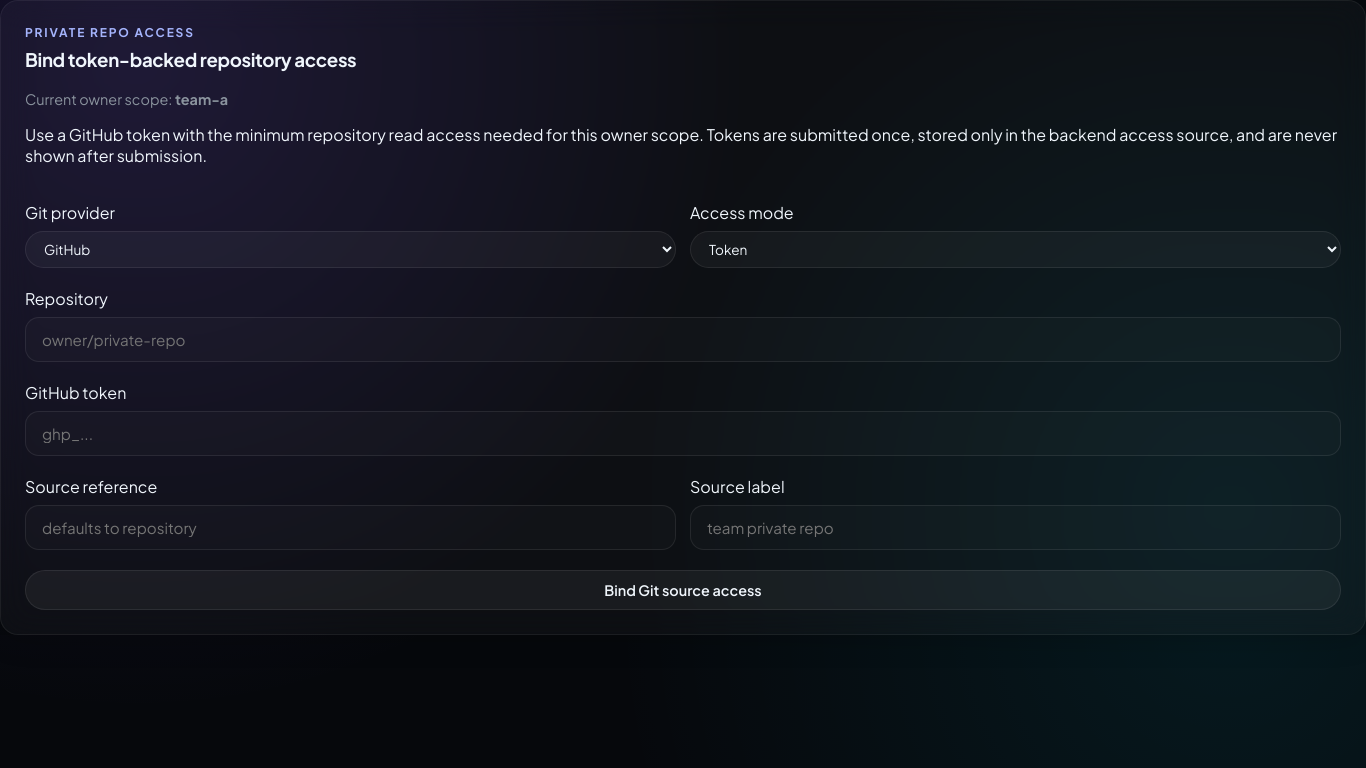
PrivateRepoAccessPanel › shows bounded binding errors and clears submitted token material
The image size is (1366, 768).
Type "org/private-repo" into the field labelled "Repository" at [683, 339], box [25,317,1341,362]
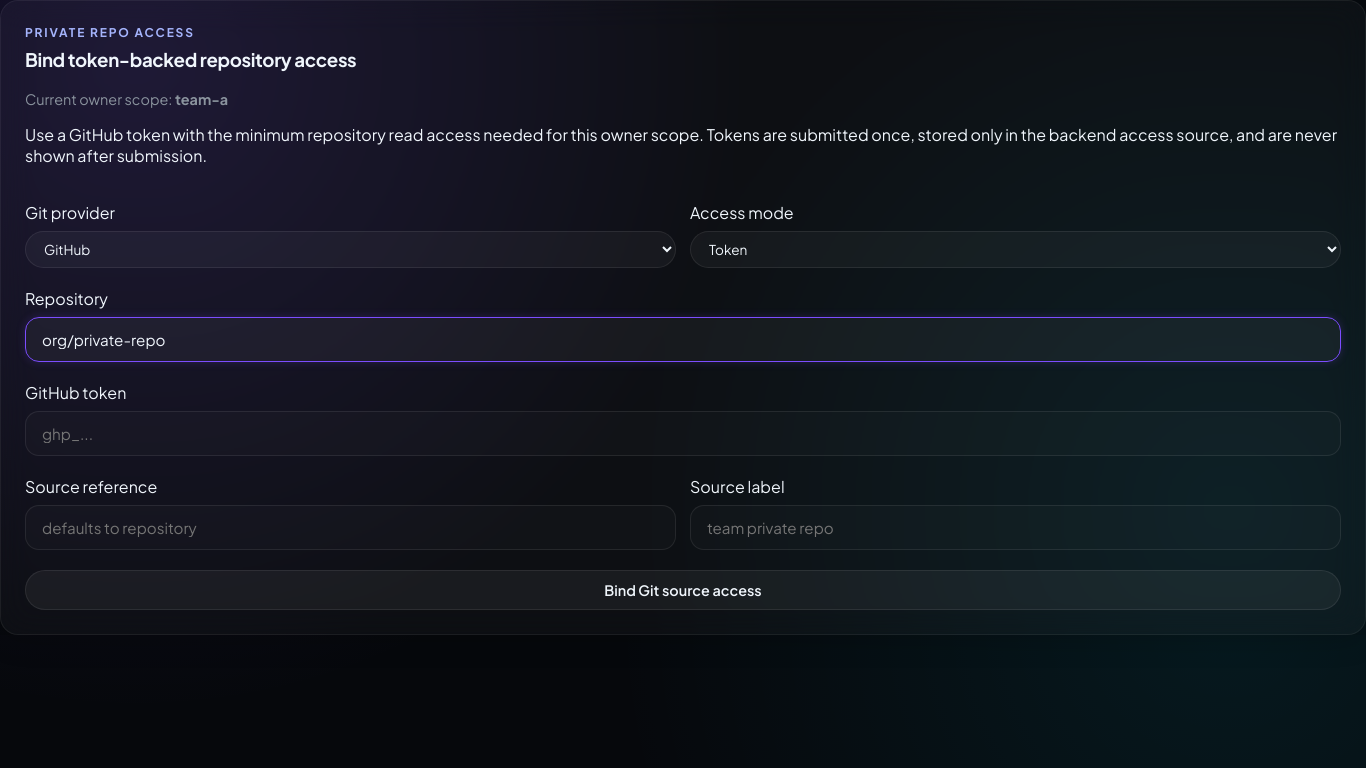
Type "ghp-private-token" into the password field labelled "GitHub token" at [683, 433], box [25,411,1341,456]
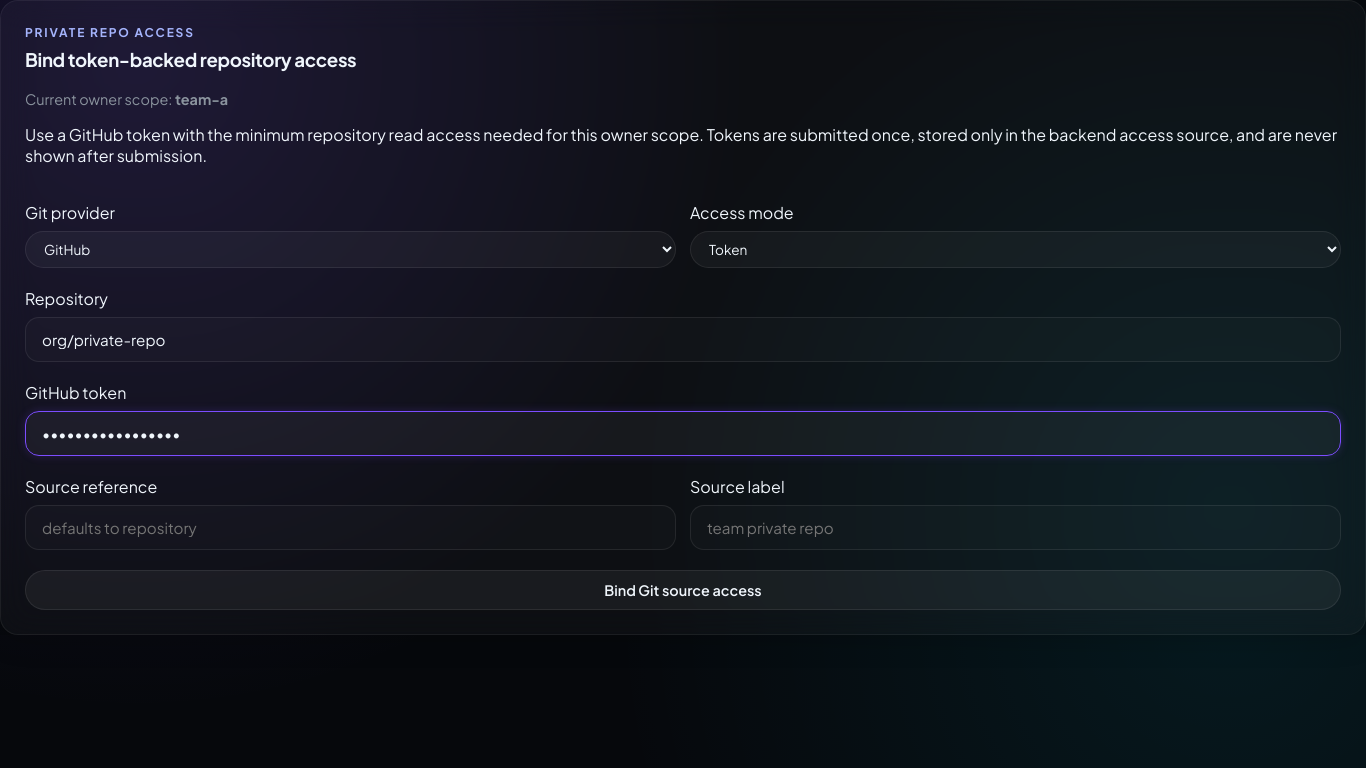
Click the button "Bind Git source access" at [683, 590], box [25,570,1341,610]
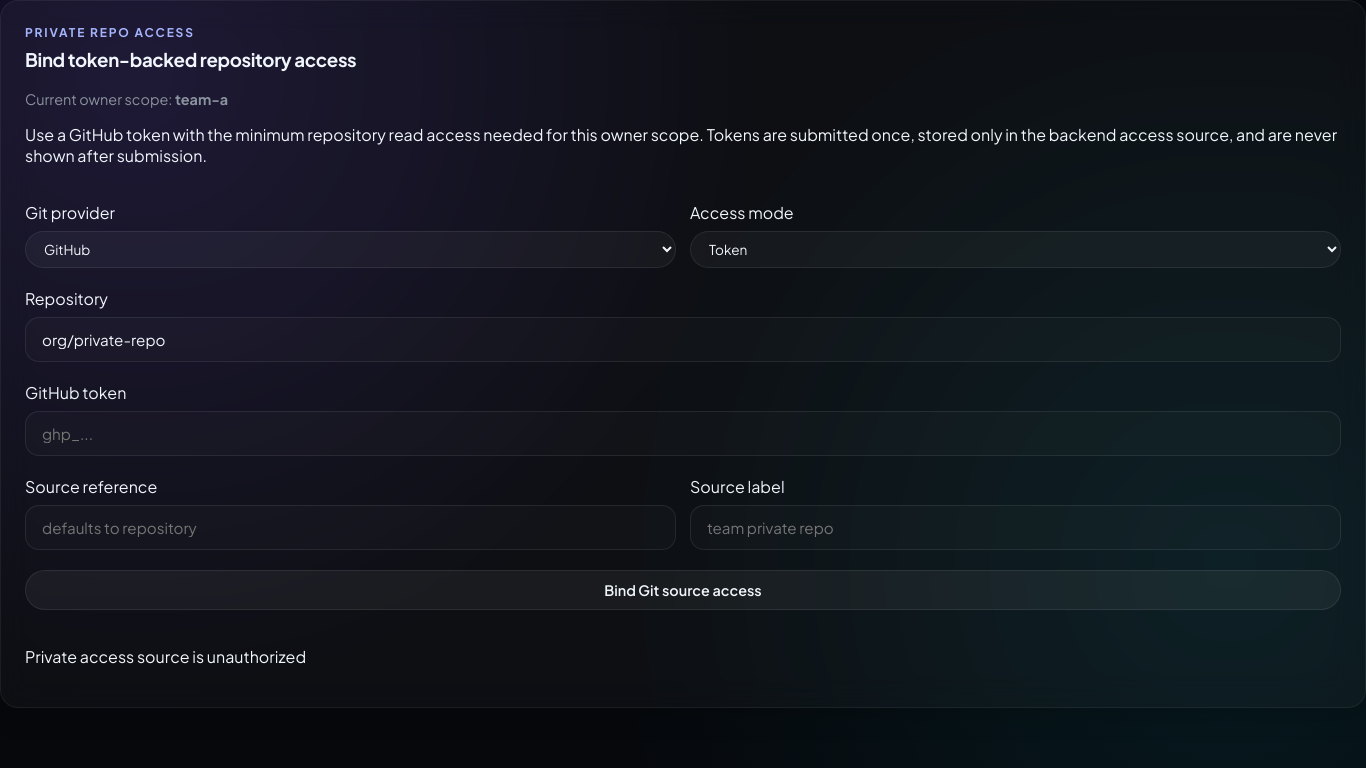
Check: the text "Private access source is unauthorized" is shown, box [25,646,306,667]
Check: the password field labelled "GitHub token" is empty, box [25,411,1341,456]
